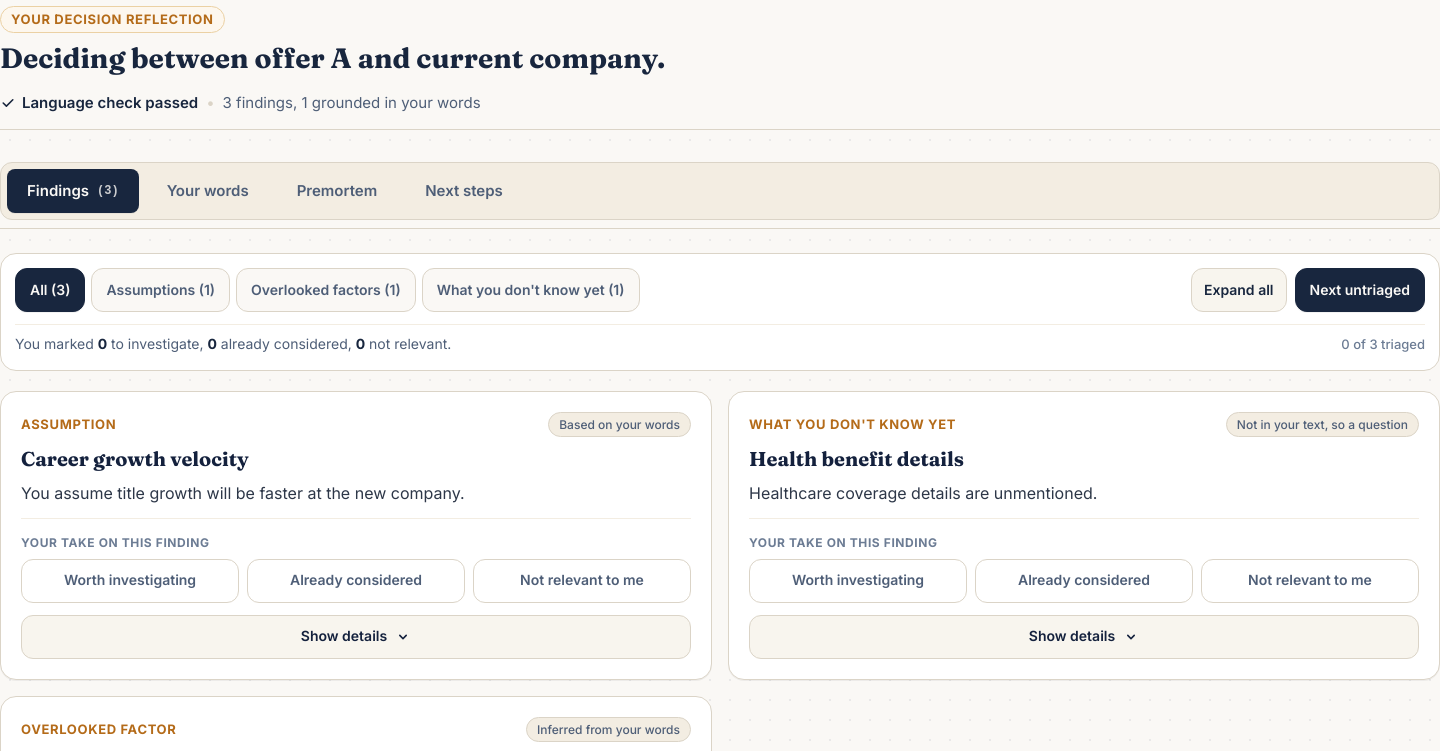
Test: ResultsView & Safe Rendering › Next steps checklist contains only items triaged as 'Worth investigating'
This screenshot has width=1440, height=751.
# Mark f1 ("Check promotion review intervals") as investigate
Click the button "Worth investigating" below "Career growth velocity". click: (130, 581)
box: x1=21 y1=559 x2=239 y2=603
(page scrolled)
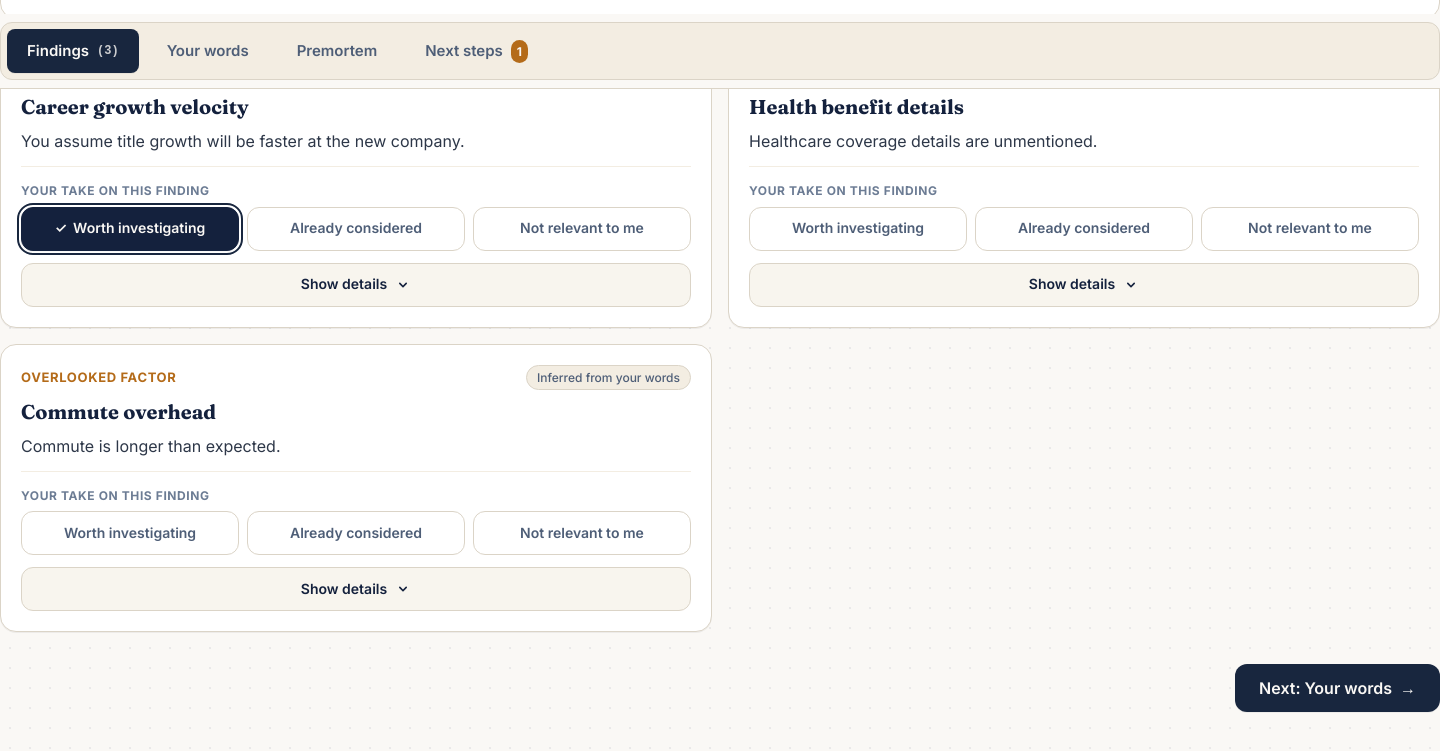
# Mark f2 as "Already considered"
Click the button "Already considered" below "Commute is longer than expected.". click: (356, 533)
box: x1=247 y1=511 x2=465 y2=555
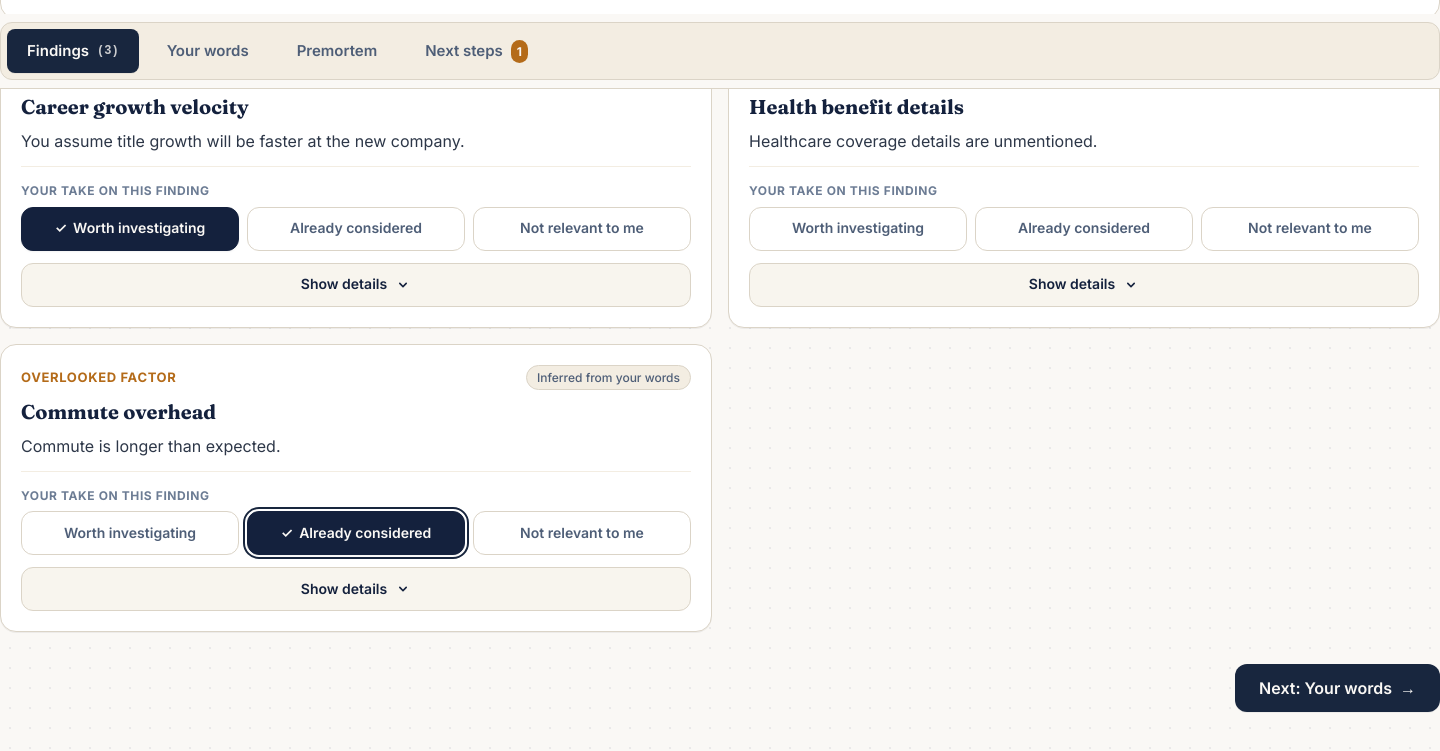
# Navigate to "Next steps" tab
Click the tab "Next steps 1". click: (477, 51)
box: x1=405 y1=29 x2=548 y2=73
(page scrolled)
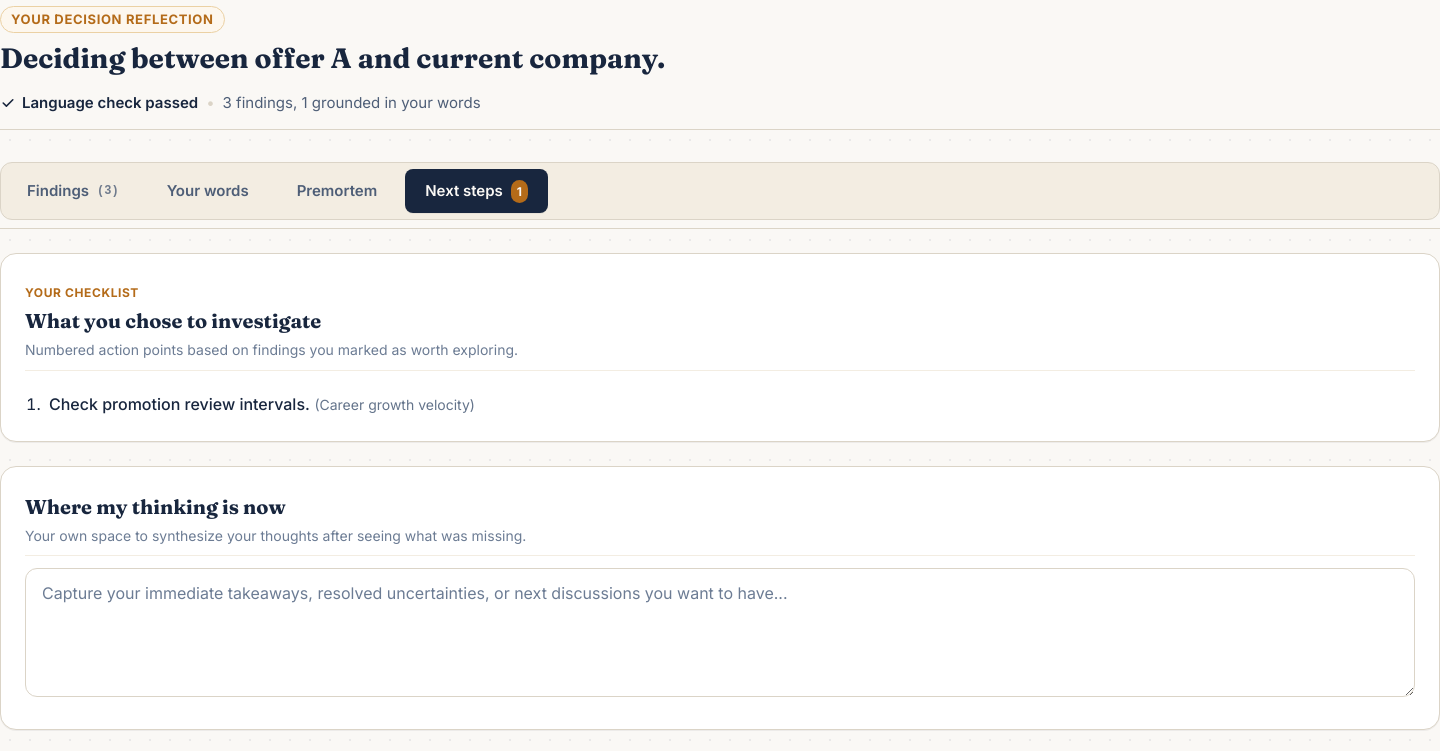
Now the text "Check promotion review intervals." is shown, box x1=49 y1=394 x2=310 y2=414
